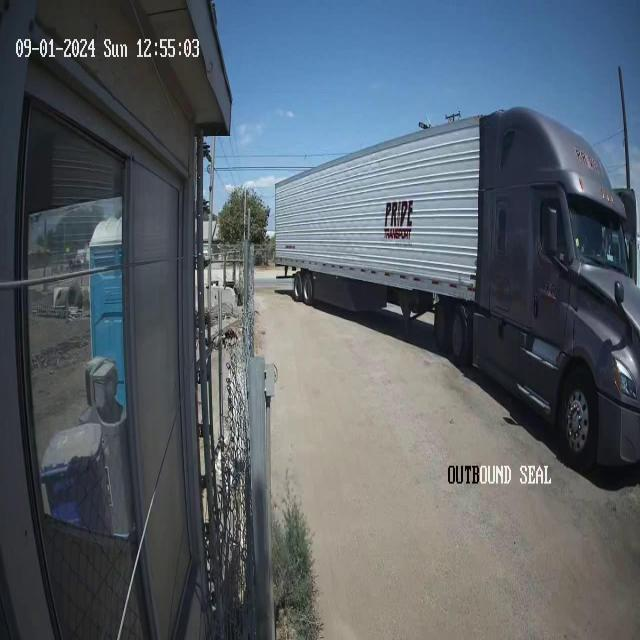TRUCK_CONTAINER: (273, 103, 639, 474)
